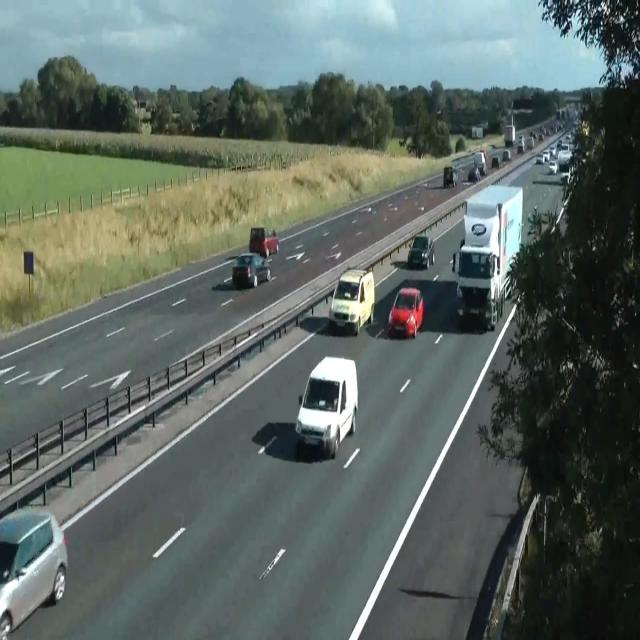bus: (232, 252, 270, 289), (468, 166, 480, 182)
jeep: (0, 505, 68, 637), (295, 354, 358, 458), (451, 243, 500, 329), (329, 268, 375, 335), (388, 286, 424, 338), (407, 233, 435, 269), (249, 226, 279, 257), (442, 165, 458, 188)
minibus: (451, 183, 523, 331), (474, 151, 486, 175), (503, 124, 515, 146), (516, 134, 526, 154), (471, 125, 483, 139)
